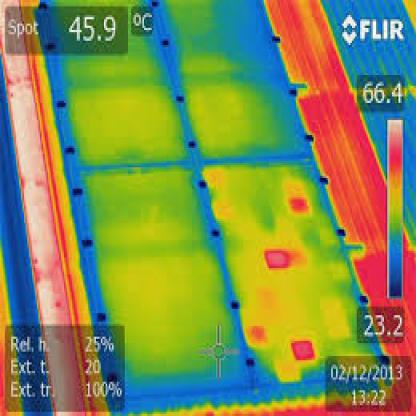Defects: (291, 338, 317, 366), (266, 247, 290, 268), (248, 324, 270, 345), (290, 198, 307, 214)
